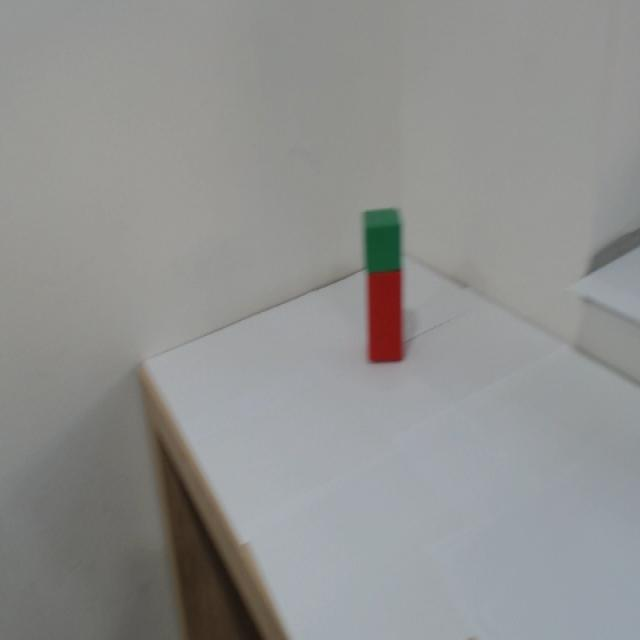cube: (358, 215, 407, 274)
